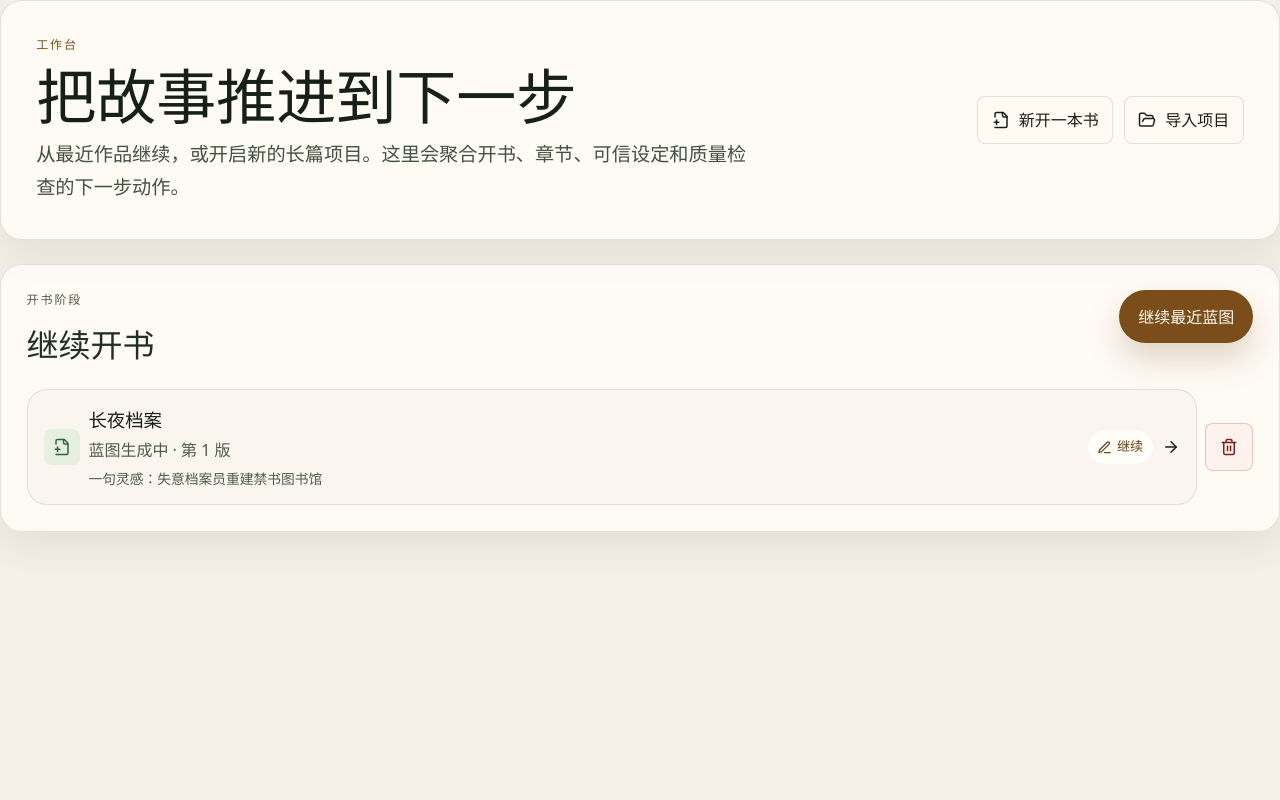
open book blueprints can be deleted from the workbench
Check: the heading "长夜档案" is shown, box left=88, top=407, right=162, bottom=432
Click the button named "删除开书蓝图《长夜档案》".
click(1229, 447)  # box left=1205, top=423, right=1253, bottom=471
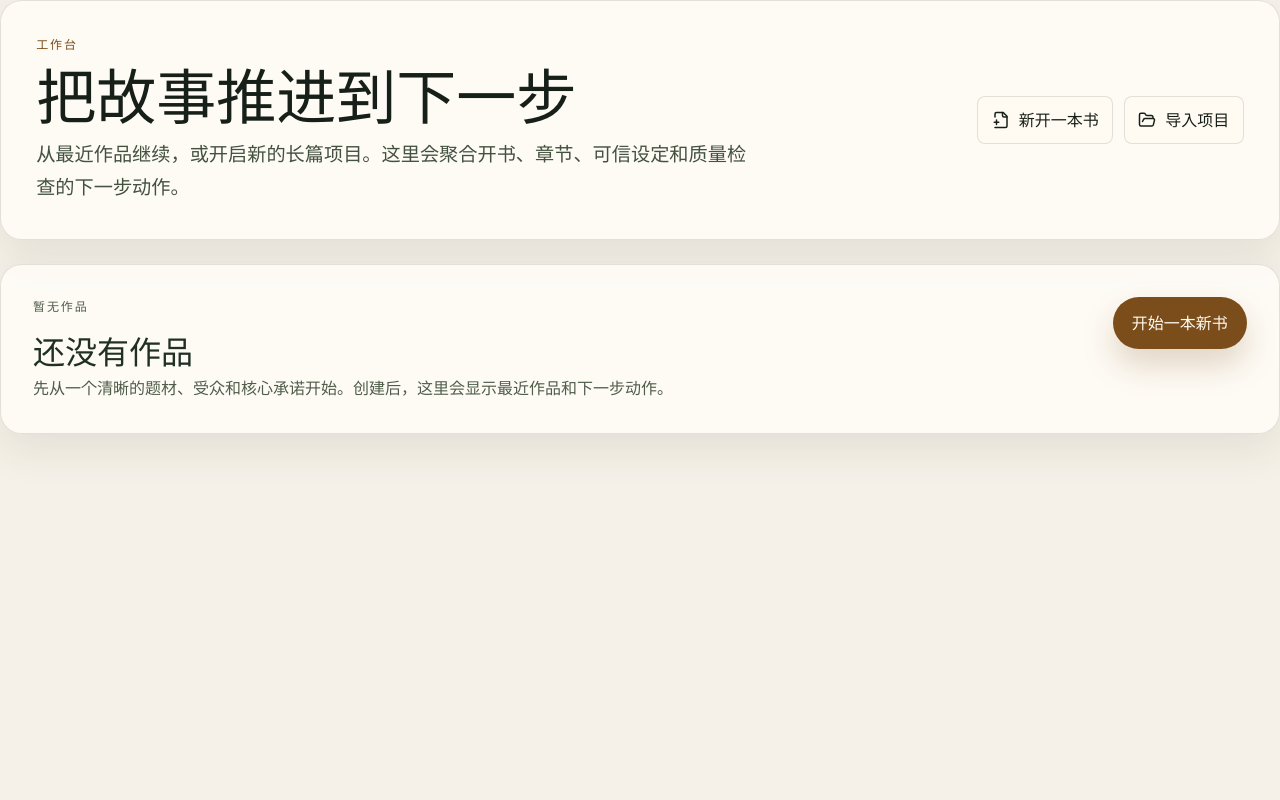
Check: the link "长夜档案" is gone
